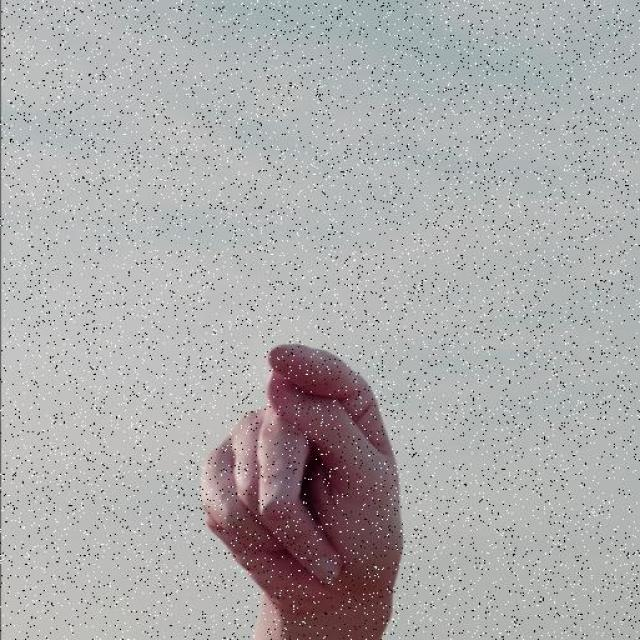P: (197, 343, 404, 596)
